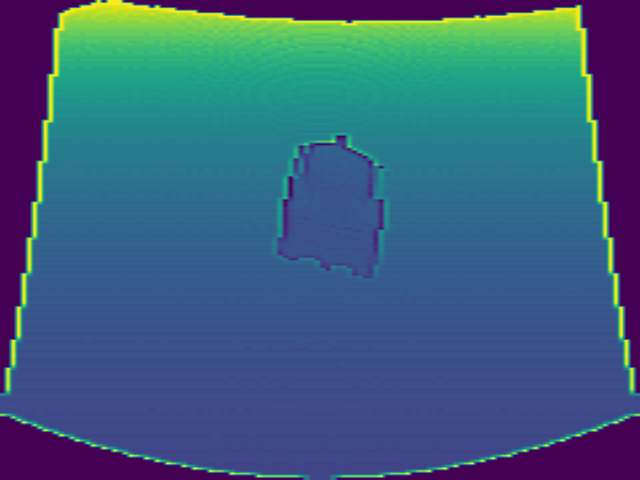car_0027: (274, 133, 387, 282)
